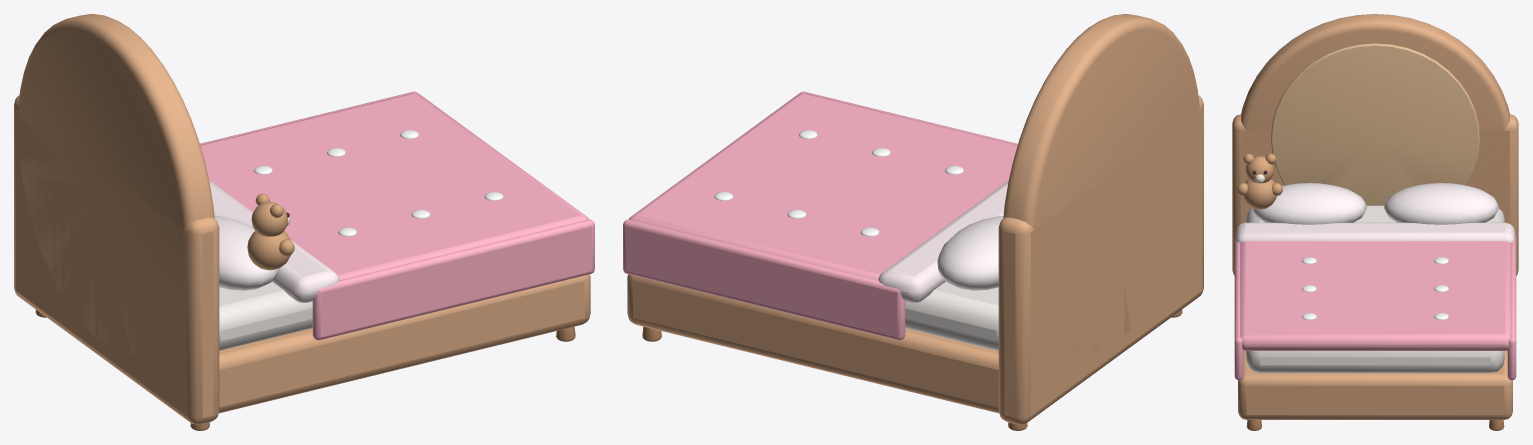
Rendered from bed.glb.
The picture shows the model from 3 angles, left to right: view 1: azimuth 30°, elevation 25°; view 2: azimuth 150°, elevation 25°; view 3: azimuth 270°, elevation 25°; orthographic projection. The views are drawn at different scales.
Visible parts, largest first — view 1: ce2b088, cffb3c8, mattress, fold, cfff6fa, cd8a77d, cffffff; view 2: ce2b088, cffb3c8, mattress, fold, cfff6fa, cffffff; view 3: cffb3c8, ce2b088, headboard_heart_bg, cfff6fa, mattress, fold, cd8a77d, cffffff, cc4926a.
Boxes of the visible parts, x1,y1,x2,y2 form: ce2b088: [14, 14, 590, 424]; cffb3c8: [200, 91, 594, 340]; mattress: [219, 281, 312, 350]; fold: [209, 180, 339, 302]; cfff6fa: [214, 216, 279, 290]; cd8a77d: [247, 193, 294, 270]; cffffff: [253, 130, 503, 236]; ce2b088: [627, 14, 1203, 424]; cffb3c8: [623, 91, 1017, 340]; mattress: [905, 281, 998, 350]; fold: [878, 180, 1008, 302]; cfff6fa: [937, 216, 1003, 290]; cffffff: [714, 130, 964, 236]; cffb3c8: [1234, 235, 1516, 380]; ce2b088: [1232, 14, 1518, 419]; headboard_heart_bg: [1271, 43, 1479, 205]; cfff6fa: [1252, 183, 1499, 224]; mattress: [1246, 205, 1504, 372]; fold: [1235, 222, 1515, 242]; cd8a77d: [1237, 153, 1282, 209]; cffffff: [1302, 257, 1448, 319]; cc4926a: [1246, 420, 1504, 430].
Bounding box in the file's own units: 3.32 × 2.7 × 2.6.
